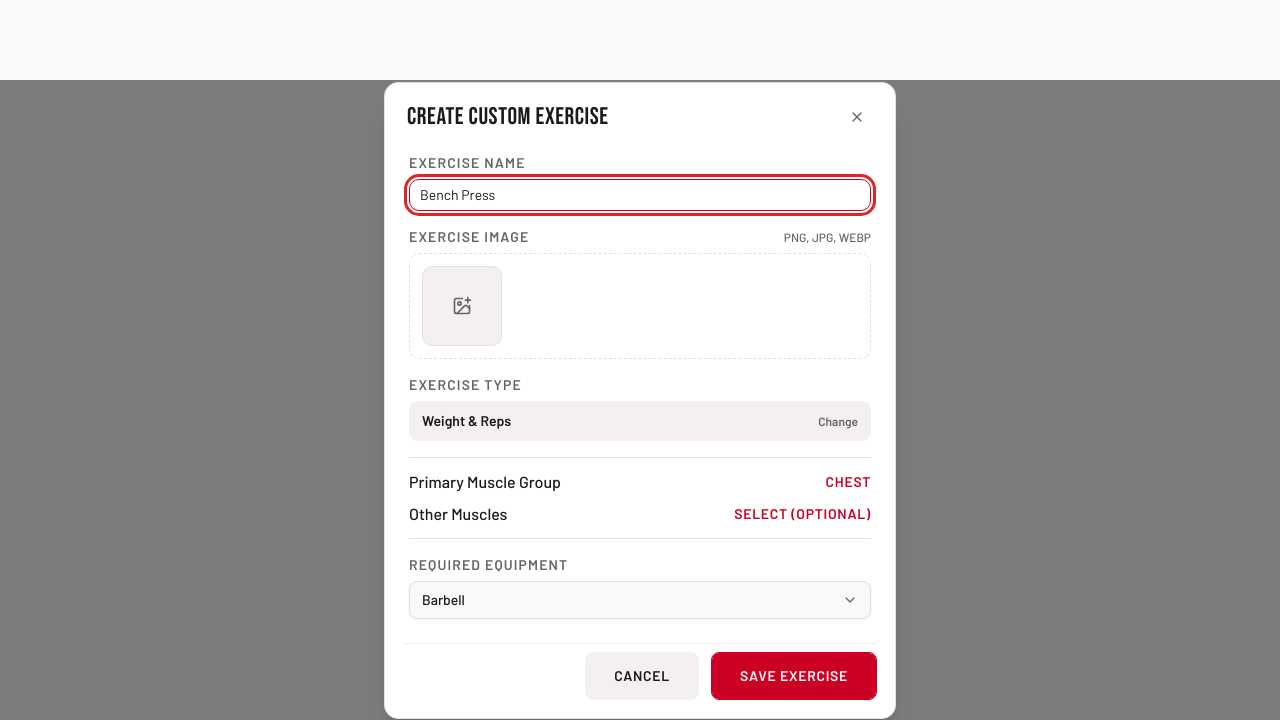
Test: CreateExercise Component › clears error message when user modifies the name
Click the button "Save Exercise": (794, 676) [711, 652, 877, 700]
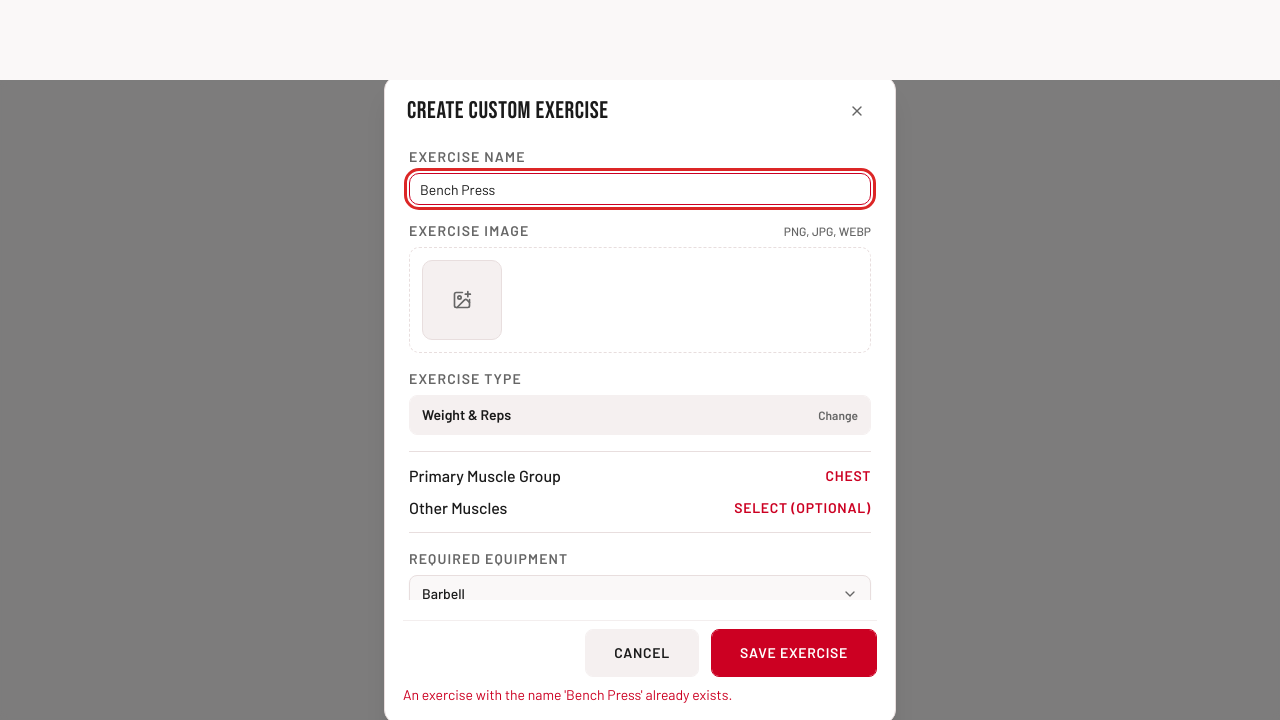
Check: the message "An exercise with the name 'Bench Press' already exists." is shown, box [403, 686, 732, 703]
Replace the text in the field with placeholder "e.g. Seated Cable Row" with "Bench Press (Incline)": (640, 189) [409, 173, 871, 205]
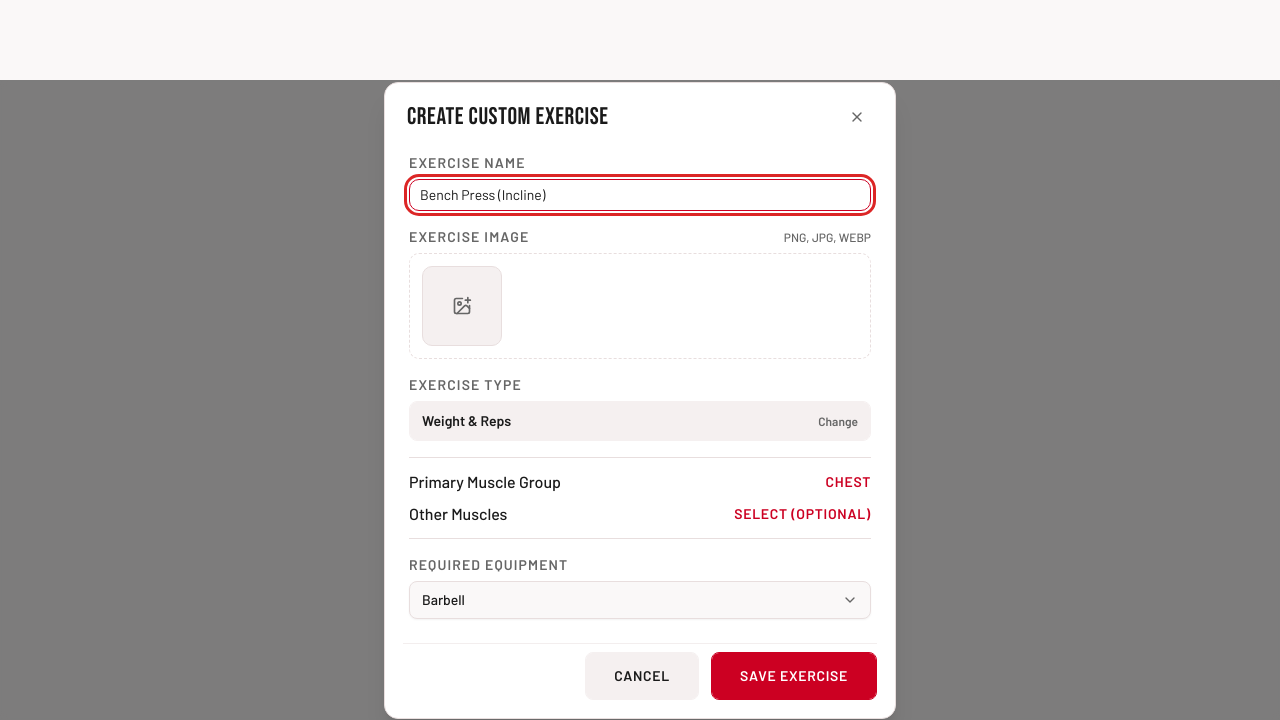
Check: the message "An exercise with the name 'Bench Press' already exists." is gone
